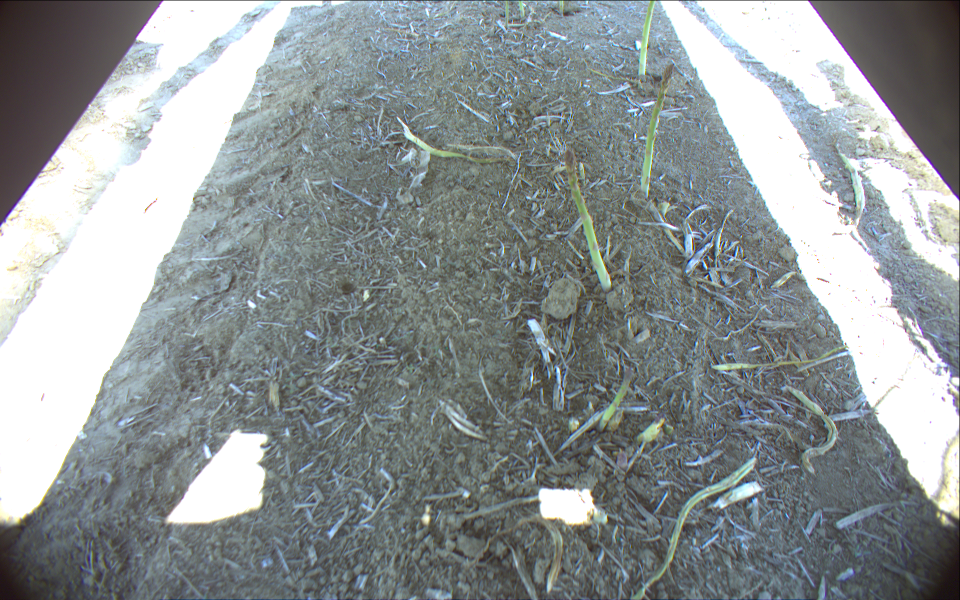aspa: (559, 146, 613, 296), (636, 61, 677, 203), (633, 1, 657, 80)
